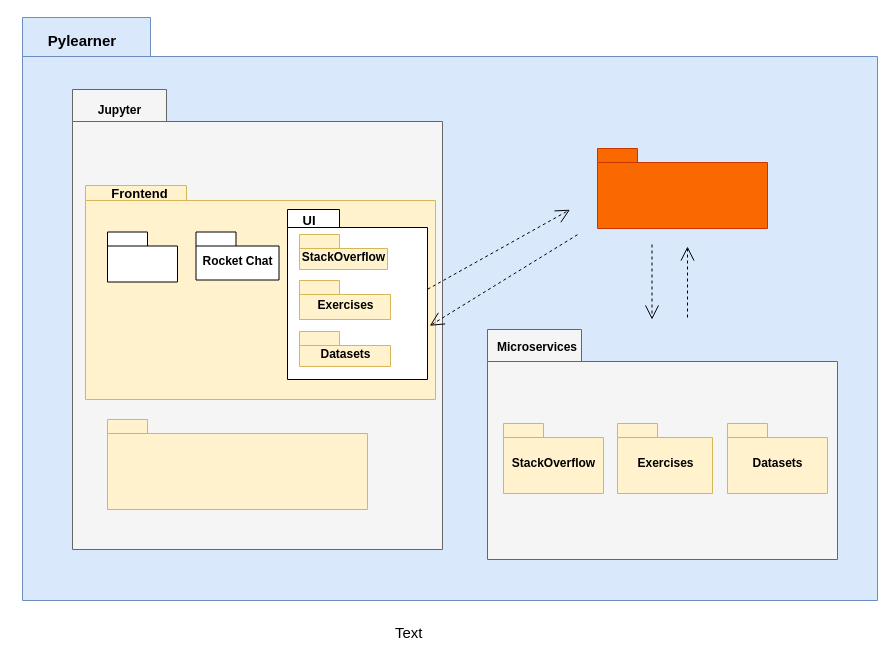
Some shapes in this 895 by 660 pixel diagram are drawn without their labels. The shapes that lost their labels are listed below. From the top down, each one's centre as x and y in pixels, then its label:
(682,188): AWS Gateway
(142,256): Custom
(237,464): Backend
